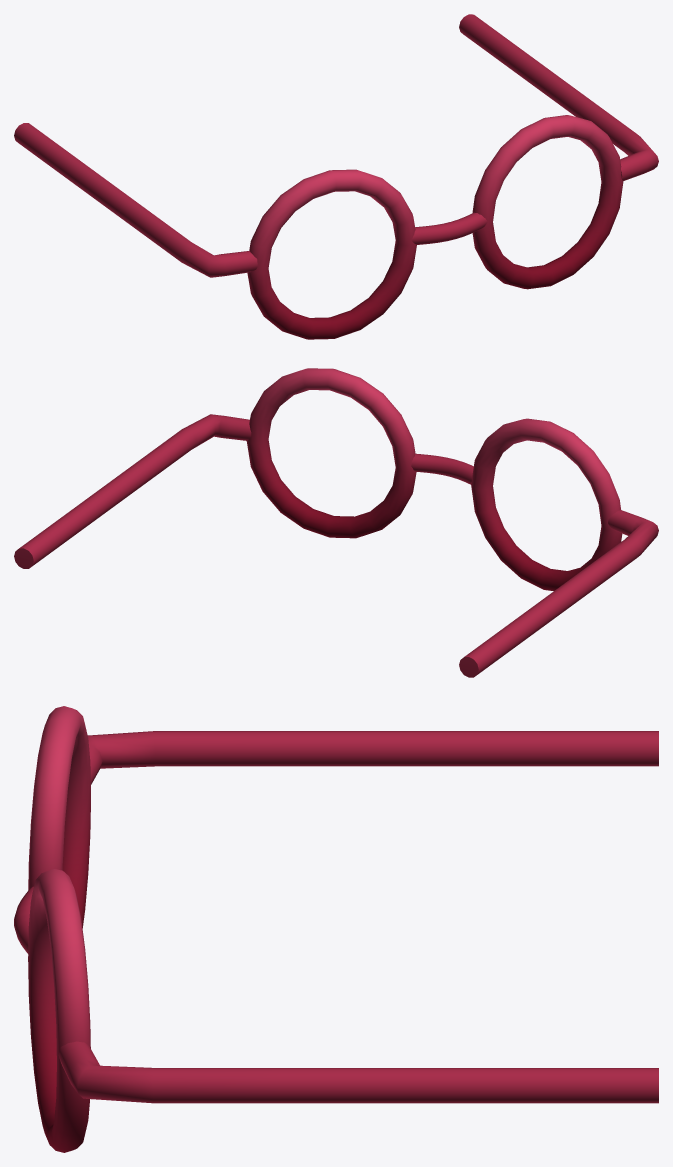
The model's file is glass1.fbx.
The picture shows the model from 3 angles, top to bottom: view 1: azimuth 30°, elevation 25°; view 2: azimuth 150°, elevation 25°; view 3: azimuth 270°, elevation 25°; orthographic projection. The views are drawn at different scales.
Visible parts, largest first — view 1: NurbsPath.001; view 2: NurbsPath.001; view 3: NurbsPath.001.
Part boxes in pixels (box(x1,y1,x2,y2)): NurbsPath.001: box(14, 14, 658, 339); NurbsPath.001: box(14, 368, 658, 677); NurbsPath.001: box(14, 706, 658, 1152).
Size of the model in its own units: 183 by 236 by 81.02.
